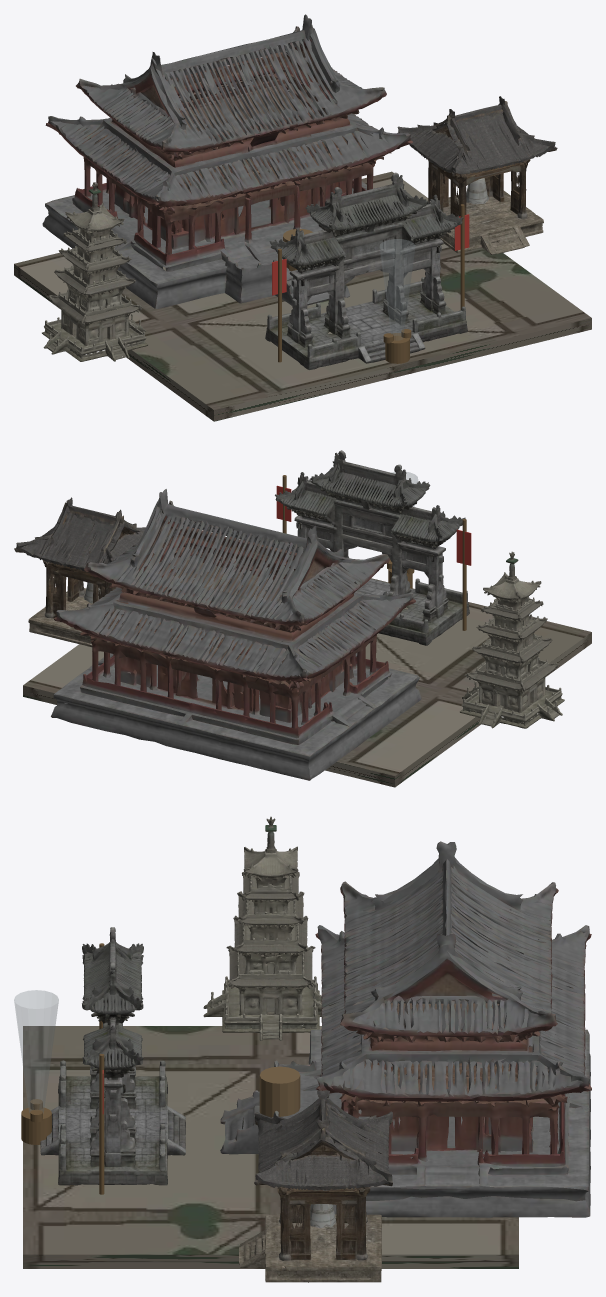
File: temple_assembled7_opt.glb
3 renders of one model, top to bottom at view 1: azimuth 30°, elevation 25°; view 2: azimuth 150°, elevation 25°; view 3: azimuth 270°, elevation 25°, orthographic. The views are drawn at different scales.
Parts seen in each view (by area): view 1: geometry_0.001, Cube, geometry_0, geometry_0.003, geometry_0.002, Cone, Cylinder.001, Cube.001; view 2: geometry_0.001, geometry_0, Cube, geometry_0.002, geometry_0.003, Cylinder.001, Cube.001; view 3: geometry_0.001, Cube, geometry_0.003, geometry_0, geometry_0.002, Cone, Cylinder.001, Cylinder.
Boxes of the visible parts, x1,y1,x2,y2 form: geometry_0.001: (42, 14, 412, 308); Cube: (14, 171, 591, 421); geometry_0: (265, 172, 467, 369); geometry_0.003: (397, 96, 557, 254); geometry_0.002: (42, 182, 147, 361); Cone: (380, 239, 415, 339); Cylinder.001: (278, 204, 464, 363); Cube.001: (272, 214, 469, 295); geometry_0.001: (51, 489, 421, 780); geometry_0: (275, 450, 469, 645); Cube: (23, 578, 591, 787); geometry_0.002: (460, 551, 564, 728); geometry_0.003: (14, 497, 145, 647); Cylinder.001: (282, 475, 466, 630); Cube.001: (276, 485, 471, 565); geometry_0.001: (220, 841, 591, 1217); Cube: (23, 1026, 518, 1268); geometry_0.003: (239, 1090, 392, 1282); geometry_0: (40, 927, 185, 1185); geometry_0.002: (203, 816, 321, 1040); Cone: (14, 990, 58, 1113); Cylinder.001: (21, 943, 104, 1194); Cylinder: (259, 1066, 300, 1117).
Bounding box in the file's own units: 16 × 6.54 × 12.82.
Materials: 9 (5 with a texture image).
